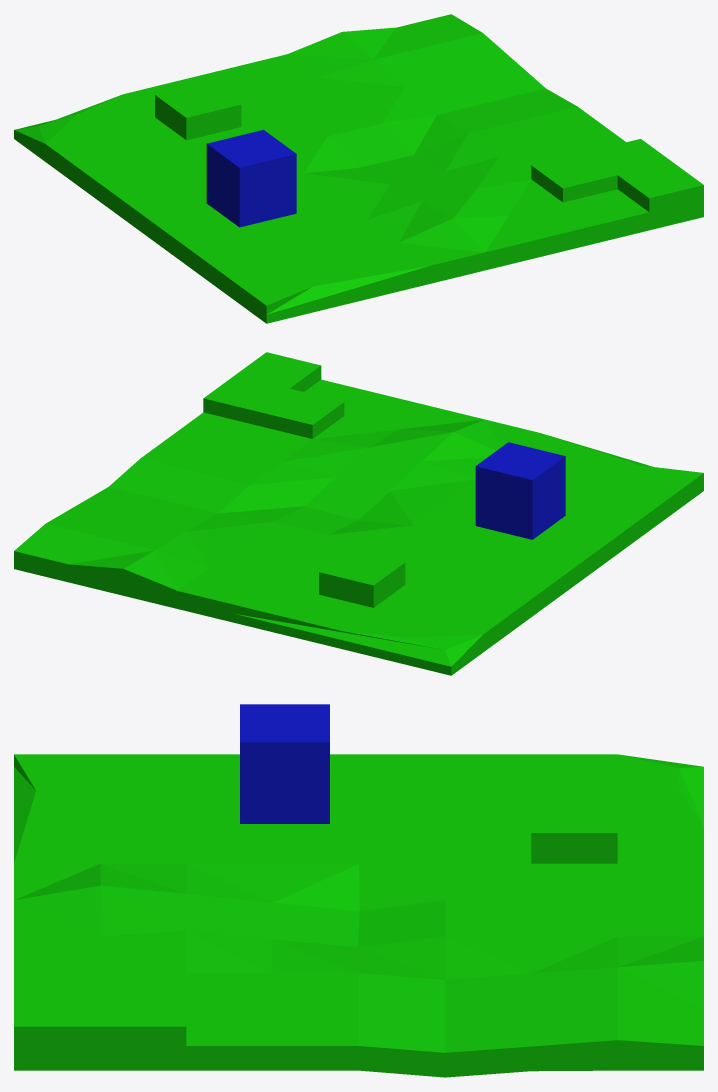
3 renders of one model, top to bottom at view 1: azimuth 30°, elevation 25°; view 2: azimuth 150°, elevation 25°; view 3: azimuth 270°, elevation 25°, orthographic. The views are drawn at different scales.
Visible parts, largest first — view 1: Ground, Cube; view 2: Ground, Cube; view 3: Ground, Cube.
Part boxes in pixels (bbox=[...]): Ground: bbox=[14, 14, 703, 323]; Cube: bbox=[206, 130, 296, 227]; Ground: bbox=[14, 352, 703, 675]; Cube: bbox=[475, 442, 565, 539]; Ground: bbox=[14, 754, 703, 1077]; Cube: bbox=[240, 704, 329, 823].
Bounding box in the file's own units: 11.63 × 2.21 × 11.63.
